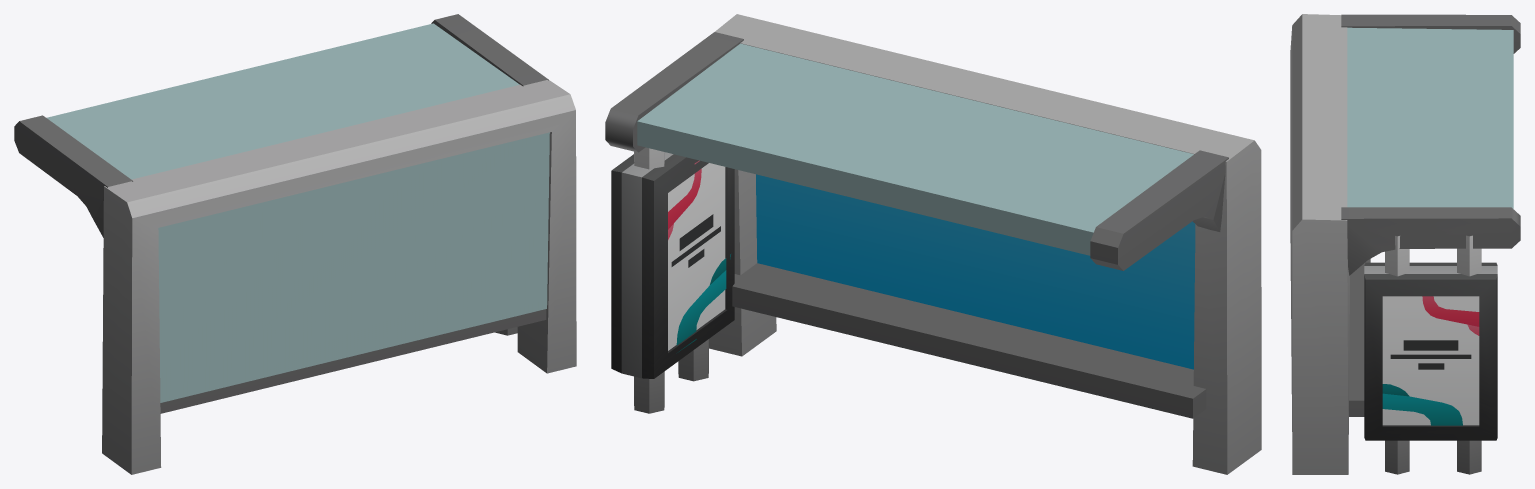
File: BusStand.fbx
The picture shows the model from 3 angles, left to right: view 1: azimuth 30°, elevation 25°; view 2: azimuth 150°, elevation 25°; view 3: azimuth 270°, elevation 25°; orthographic projection. The views are drawn at different scales.
Visible parts, largest first — view 1: BusStand; view 2: BusStand; view 3: BusStand.
Boxes of the visible parts, x1,y1,x2,y2 form: BusStand: (14,14,576,474); BusStand: (605,14,1261,474); BusStand: (1290,14,1520,474).
Bounding box in the file's own units: 1.47 × 0.8351 × 0.6826.
